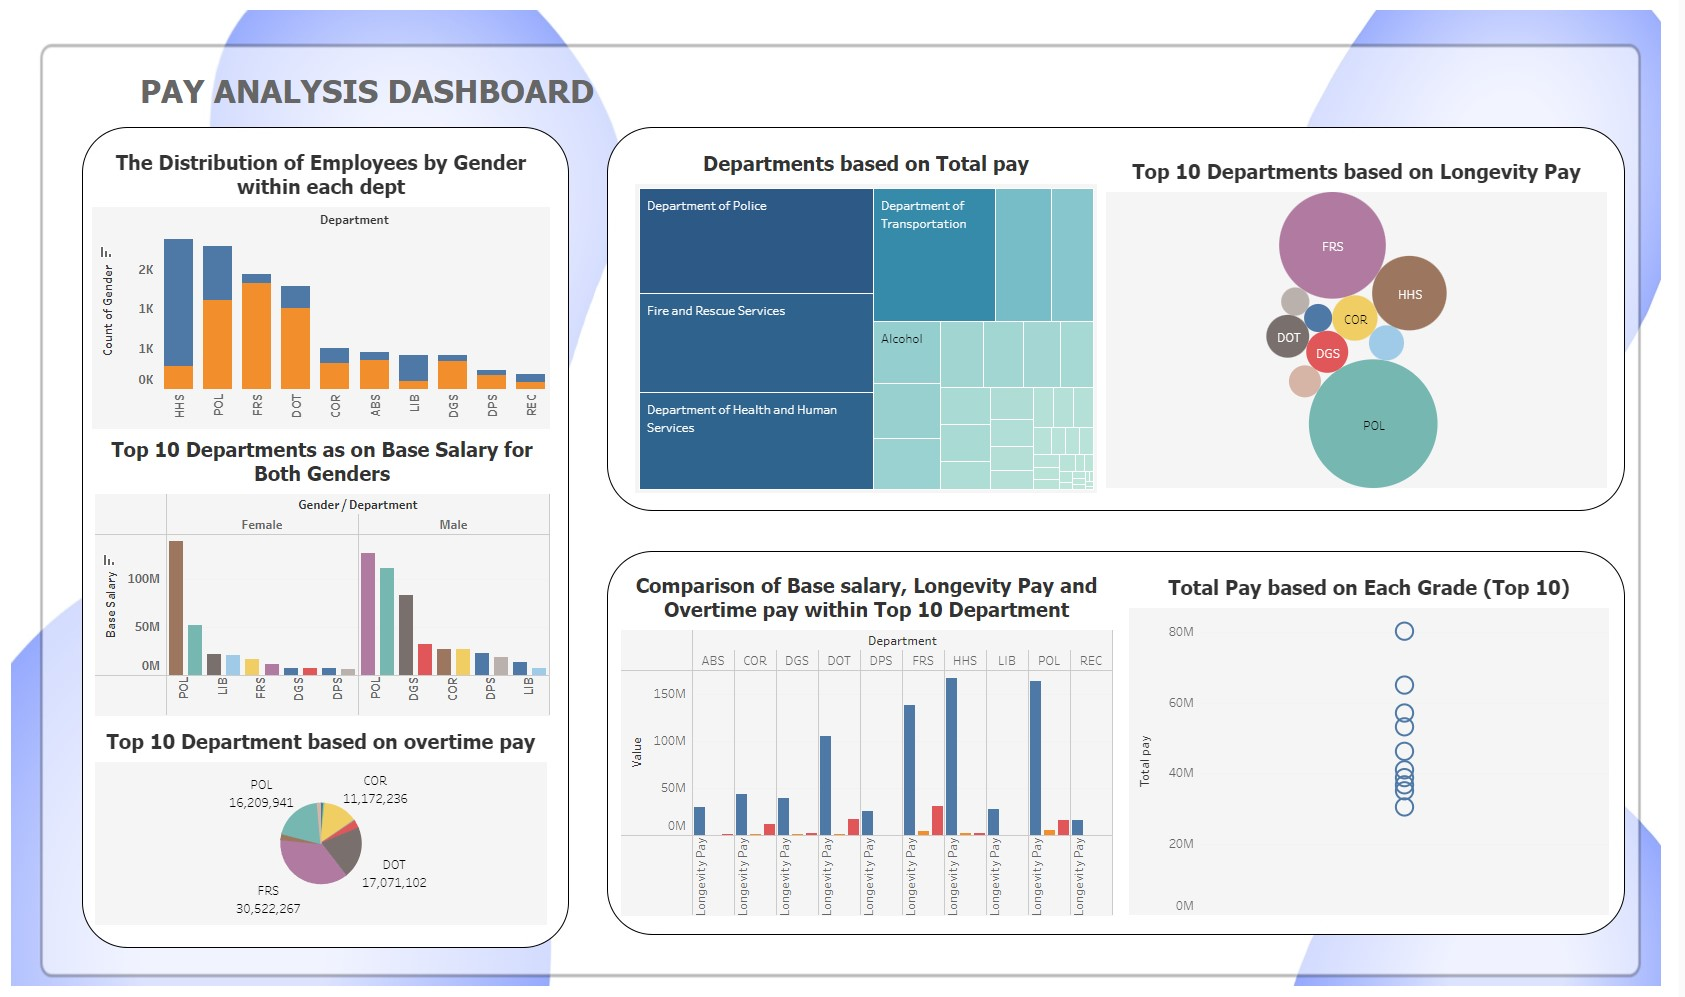

The dashboard page shown, as its layout file describes it:
{"tool":"tableau","page":{"name":"Dashboard 1","canvas":[1680,1000],"ordinal":0},"visuals":[{"type":"image","param":"Image/Presentation1.png","box":[8,8,1664,984]},{"type":"text","box":[141,72,545,42]},{"type":"worksheet","title":"Sheet 1","mark":"Automatic","rows":["Gender"],"cols":["Department"],"box":[93,146,458,285]},{"type":"worksheet","title":"Sheet 5","mark":"Automatic","box":[636,147,462,348]},{"type":"worksheet","title":"Sheet 4","mark":"Circle","box":[1107,155,501,335]},{"type":"worksheet","title":"Sheet 2","mark":"Automatic","rows":["Base_Salary"],"cols":["Gender","Department"],"box":[96,433,455,285]},{"type":"worksheet","title":"Sheet 6","mark":"Automatic","cols":["Department"],"box":[622,569,492,349]},{"type":"worksheet","title":"Sheet 7","mark":"Shape","rows":["Total_pay"],"box":[1130,571,480,346]},{"type":"worksheet","title":"Sheet 3","mark":"Pie","box":[96,725,452,202]}]}

Visuals, with their boxes in screenshot pixels (x1, y1, x2, y2), scaled from the page's 1680x1000 canvas onto the 1685x997 screenshot:
image: locate(8, 8, 1677, 989)
text: locate(141, 72, 688, 114)
"Sheet 1" worksheet: locate(93, 146, 553, 430)
"Sheet 5" worksheet: locate(638, 147, 1101, 494)
"Sheet 4" worksheet (Circle marks): locate(1110, 155, 1613, 489)
"Sheet 2" worksheet: locate(96, 432, 553, 716)
"Sheet 6" worksheet: locate(624, 567, 1117, 915)
"Sheet 7" worksheet (Shape marks): locate(1133, 569, 1615, 914)
"Sheet 3" worksheet (Pie marks): locate(96, 723, 550, 924)
